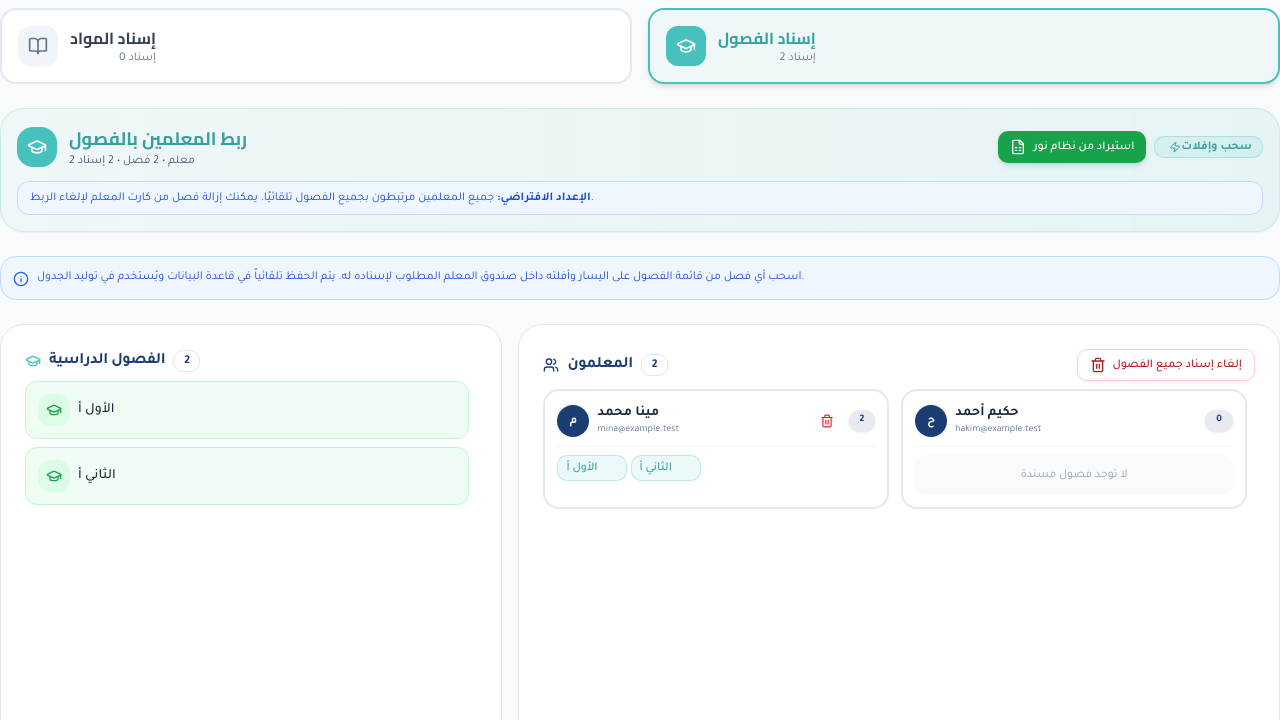
Test: teacher assignment bulk controls › shows Arabic teacher and global safety confirmations
Later steps or results of the test are not shown.
Click the button with test id "unassign-all-teacher-t1".
click(826, 420)  # box x1=812 y1=406 x2=840 y2=434
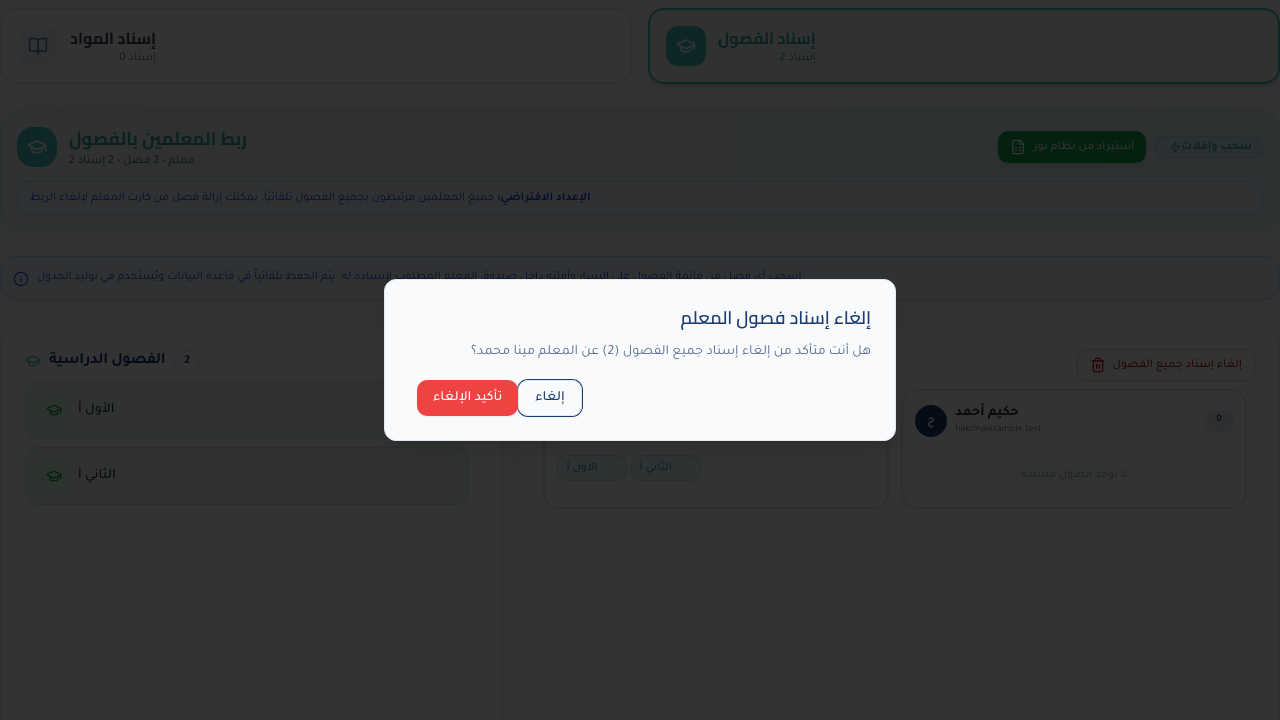
Expected: the text "هل أنت متأكد من إلغاء إسناد جميع الفصول (2) عن المعلم مينا محمد؟" is shown, x1=471 y1=345 x2=871 y2=359
